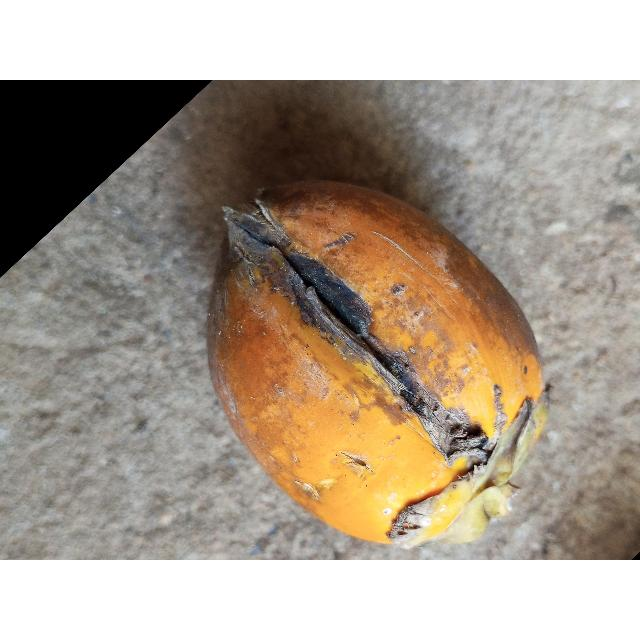damaged: (206, 180, 548, 550)
